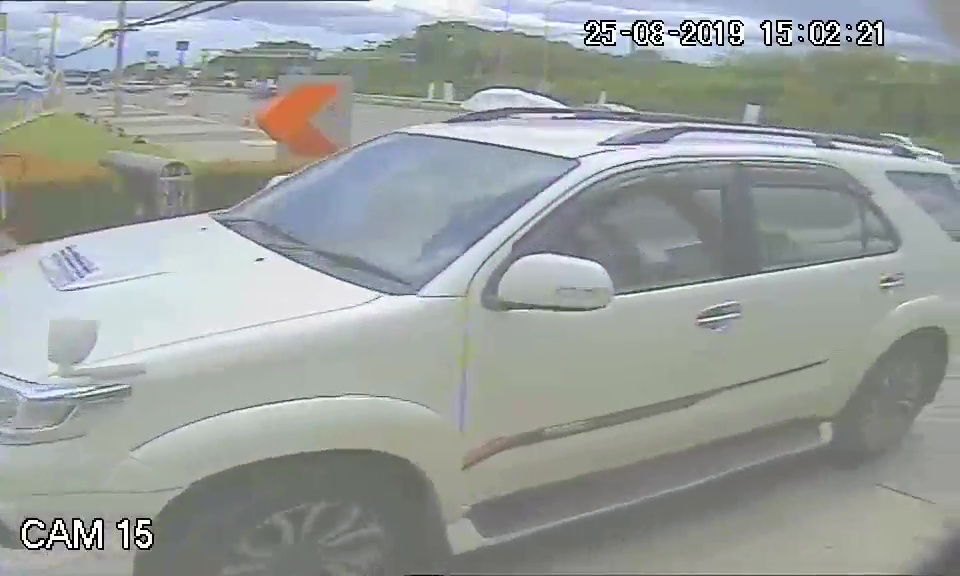pickup: (9, 100, 956, 505)
